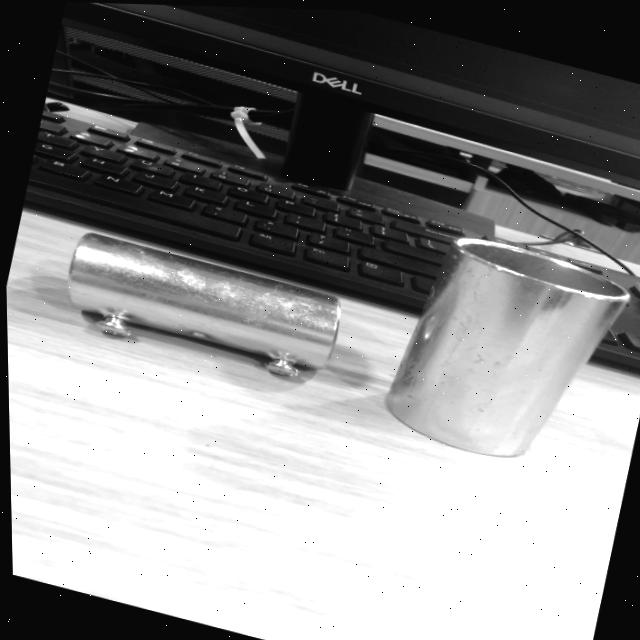Co_Lon: (378, 217, 633, 488)
Co_Nho: (55, 228, 346, 391)
